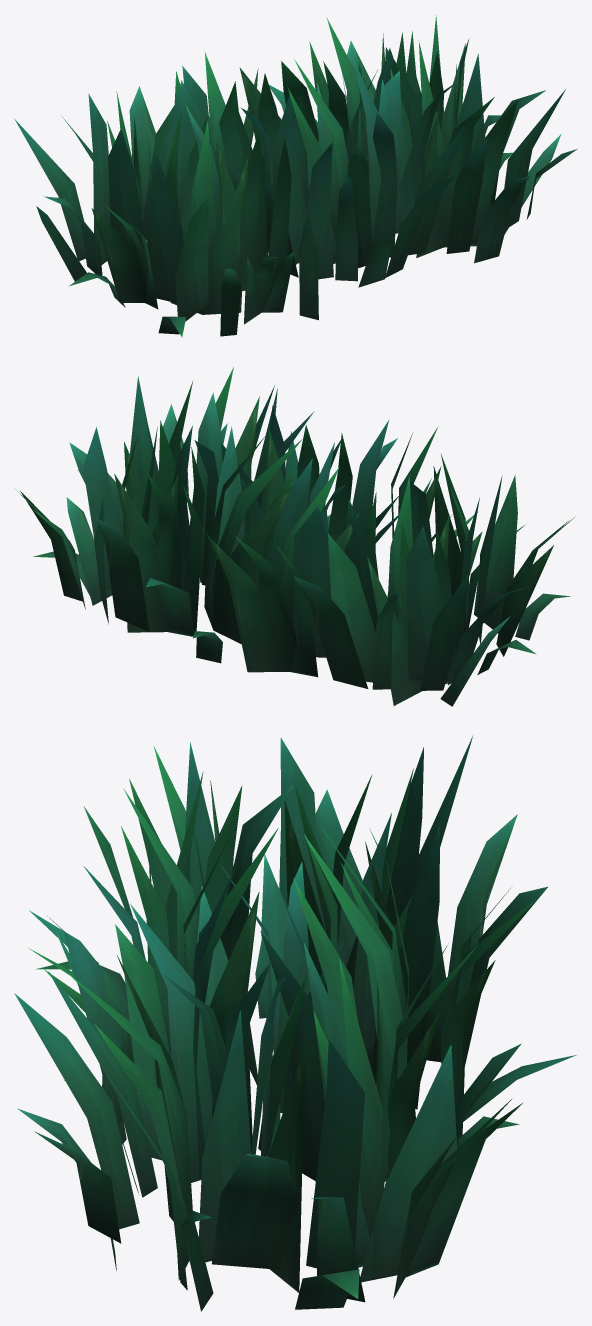
The model's file is pref_sm_beach_techgrass_alpha_02_lv1.fbx.
3 views of the same model, one above another, from view 1: azimuth 30°, elevation 25°; view 2: azimuth 150°, elevation 25°; view 3: azimuth 270°, elevation 25° (orthographic). The views are drawn at different scales.
Visible parts, largest first — view 1: pref_sm_beach_techgrass_alpha_02_lv1; view 2: pref_sm_beach_techgrass_alpha_02_lv1; view 3: pref_sm_beach_techgrass_alpha_02_lv1.
Boxes of the visible parts, x1,y1,x2,y2 form: pref_sm_beach_techgrass_alpha_02_lv1: (14, 15, 577, 337); pref_sm_beach_techgrass_alpha_02_lv1: (15, 367, 575, 706); pref_sm_beach_techgrass_alpha_02_lv1: (14, 736, 576, 1311).
Bounding box in the file's own units: 4.65 × 2.03 × 2.91.
